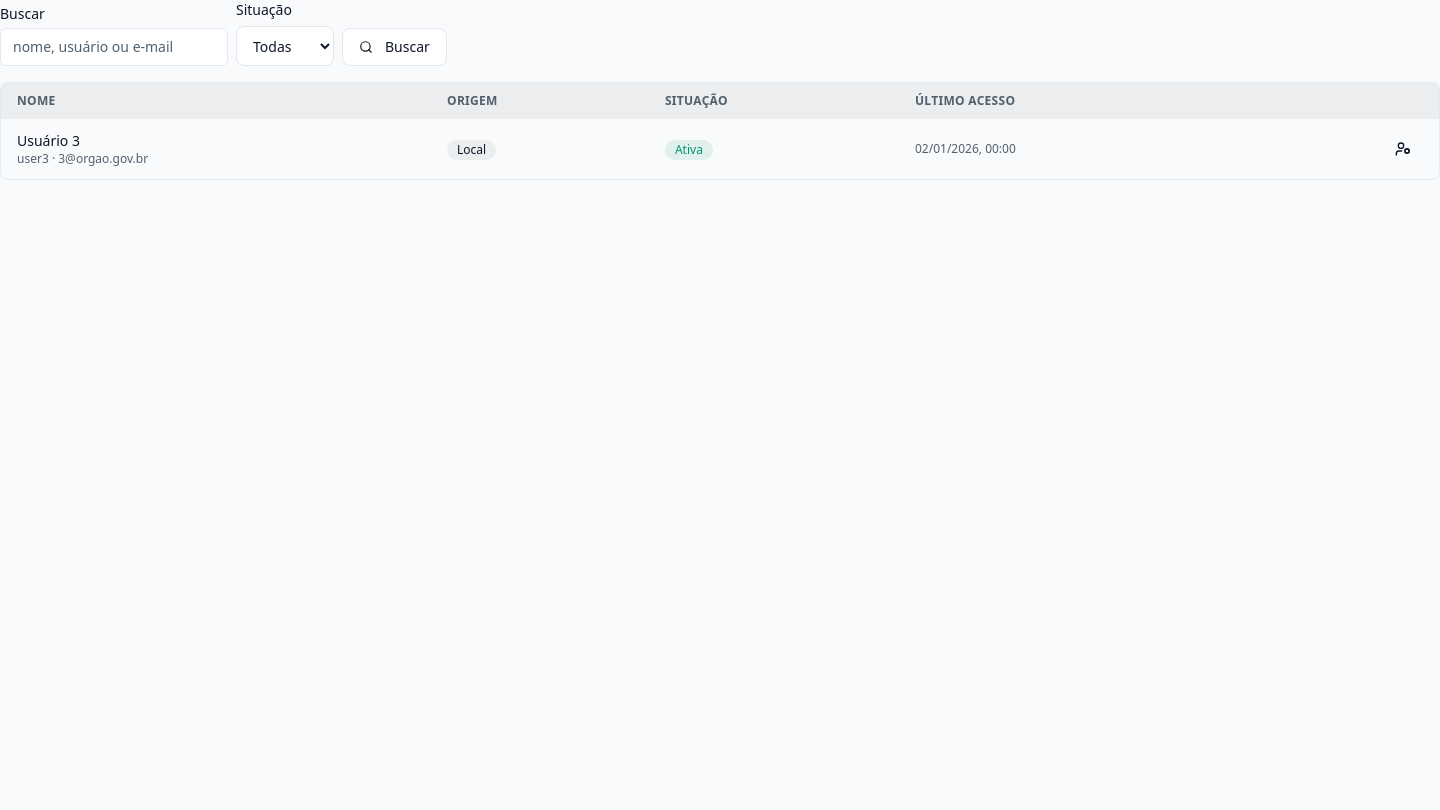
Test: Configurações > Usuários › sem users:manage nem iam:manage: só consulta
The width and height of the screenshot is (1440, 810).
Click the button named "Gerenciar user3" at (1403, 149), box top-left (1383, 135), bottom-right (1423, 163)
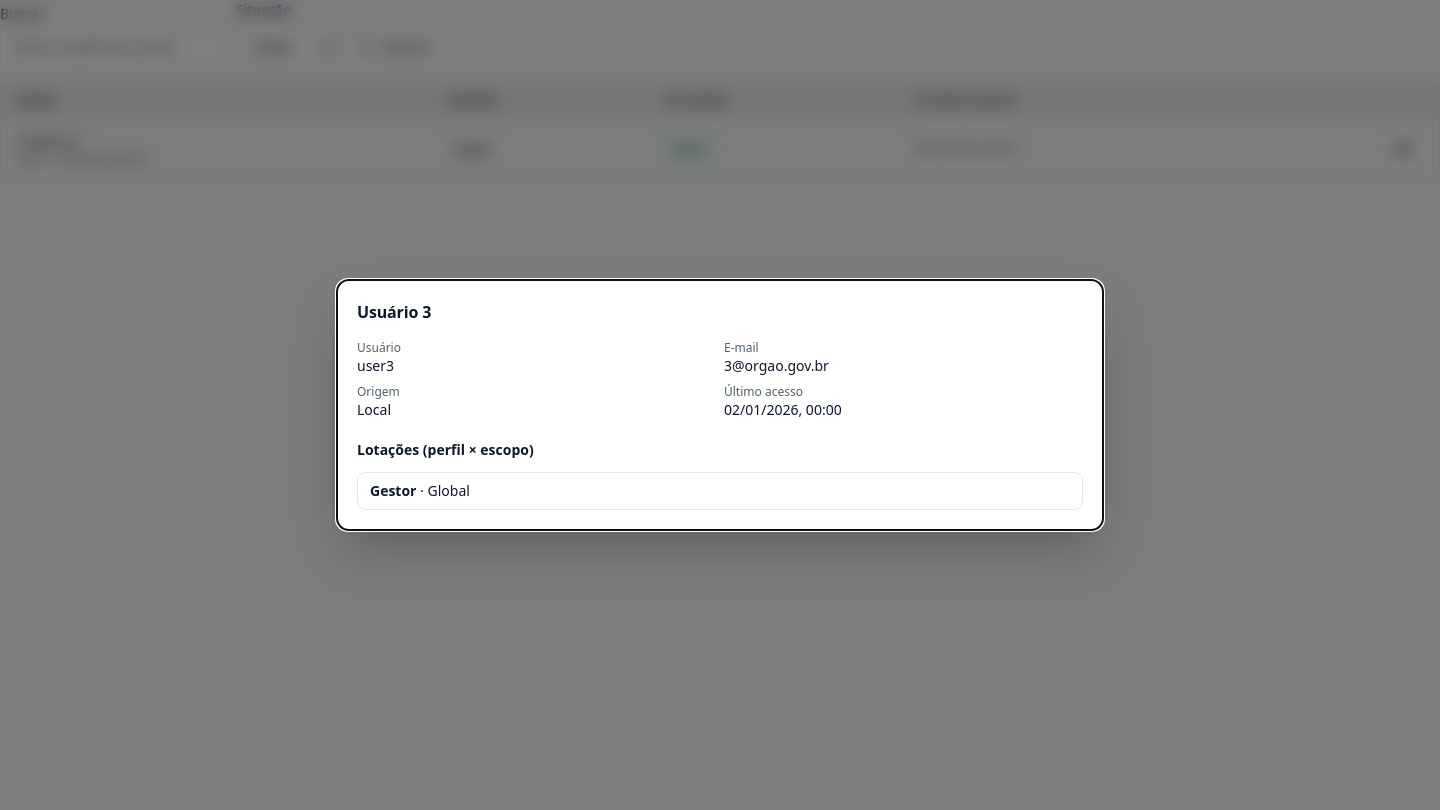
Result: the text "Gestor" is shown at top-left (370, 481), bottom-right (416, 500)
